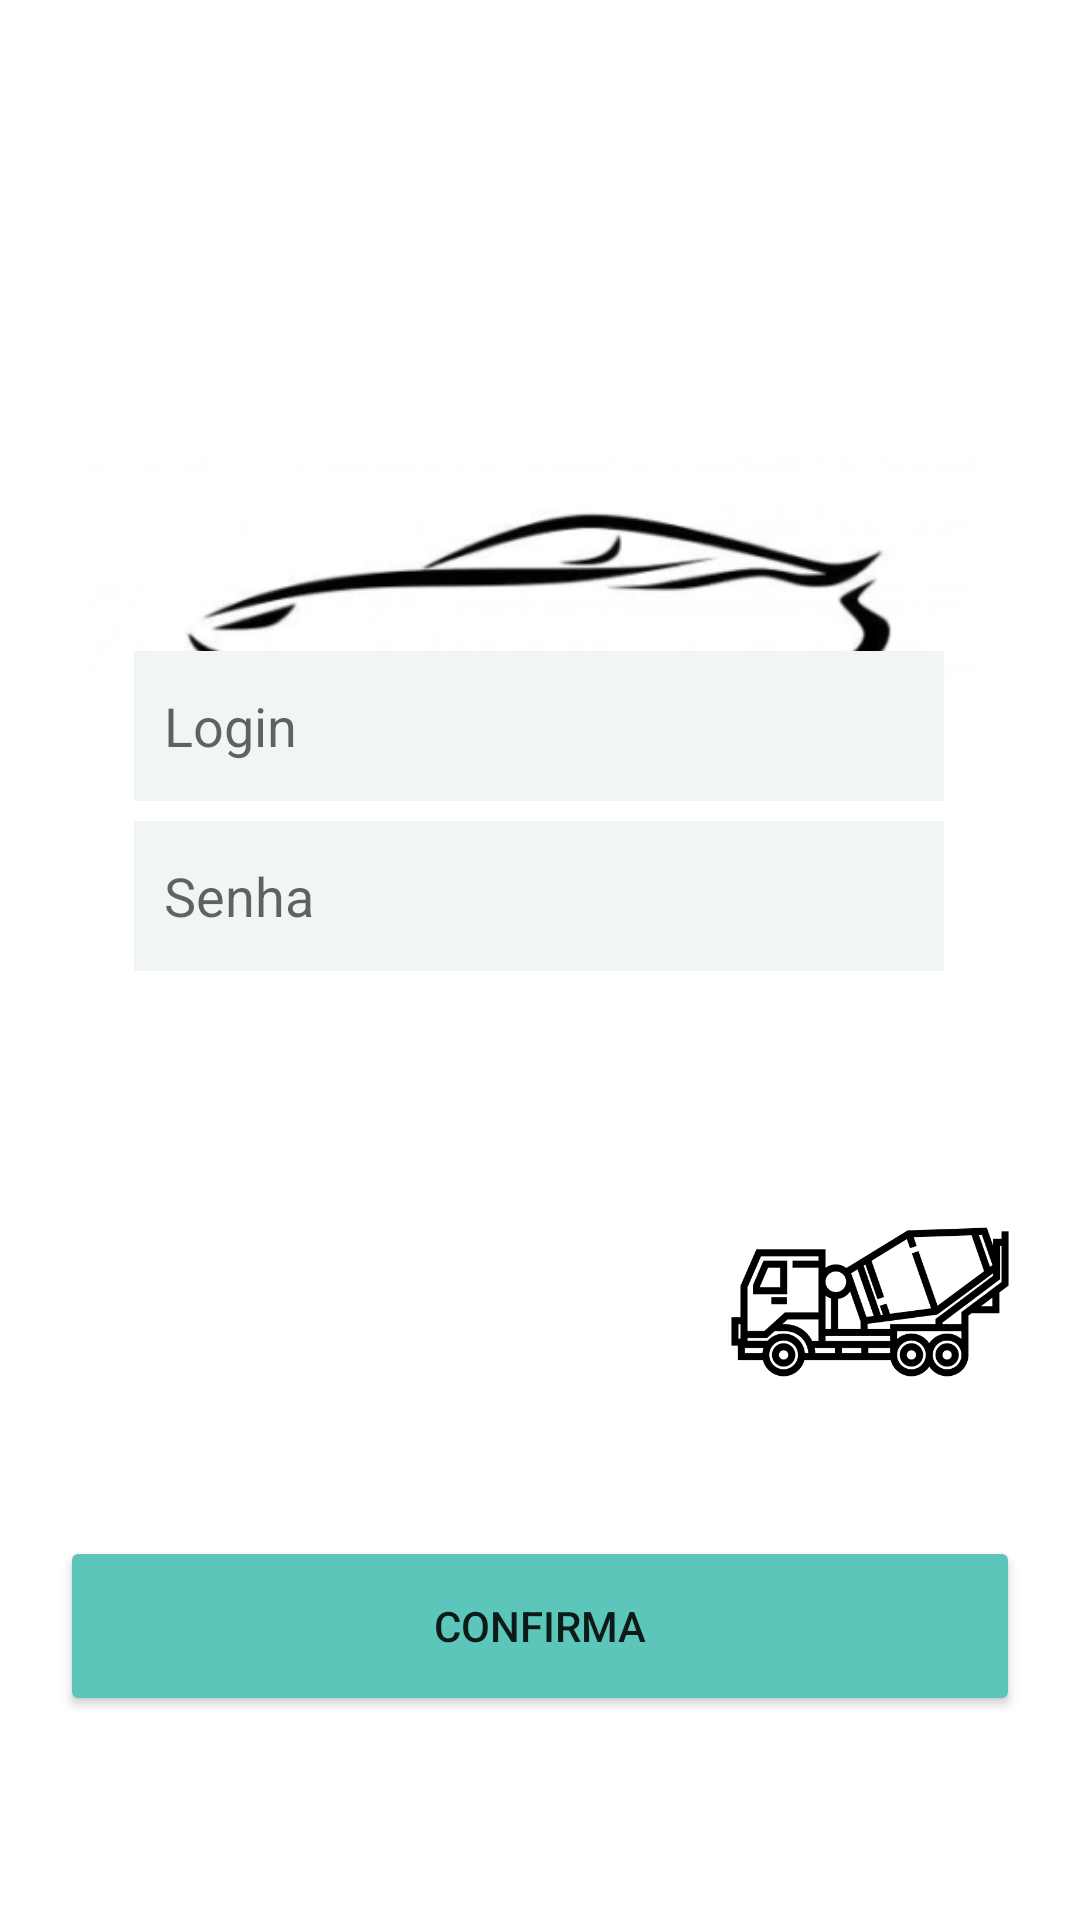

Icons on this 1080px×1920px Android screen, each with the point to tap as [x,y]:
truck: [870,1302]
